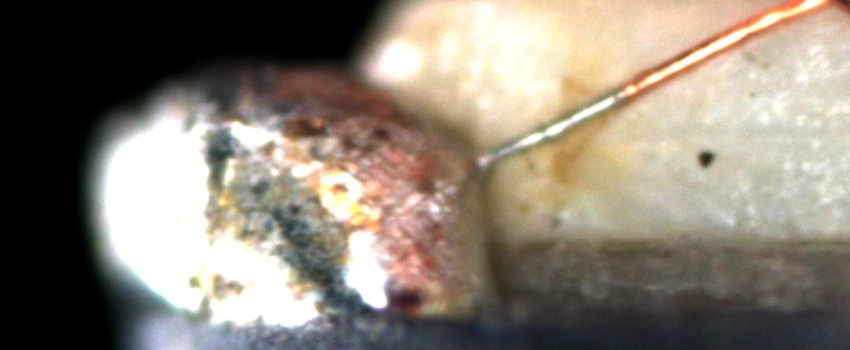DL: (621, 101, 850, 165)
TS: (479, 89, 626, 168)
